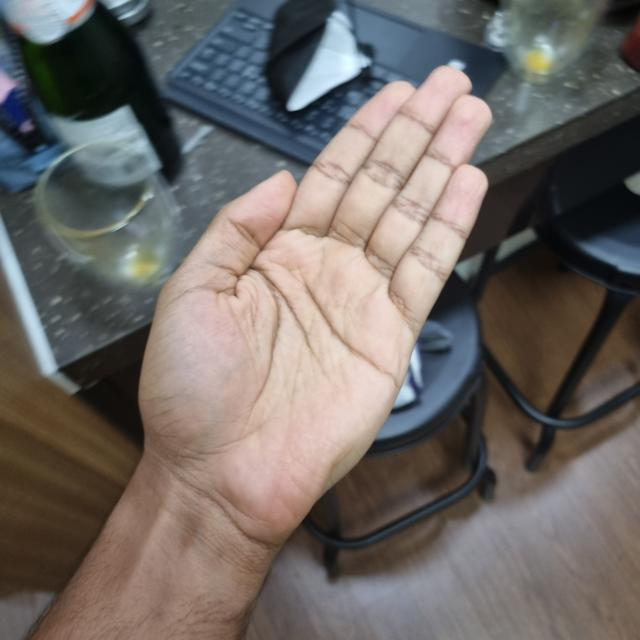Paper: (132, 66, 491, 521)
